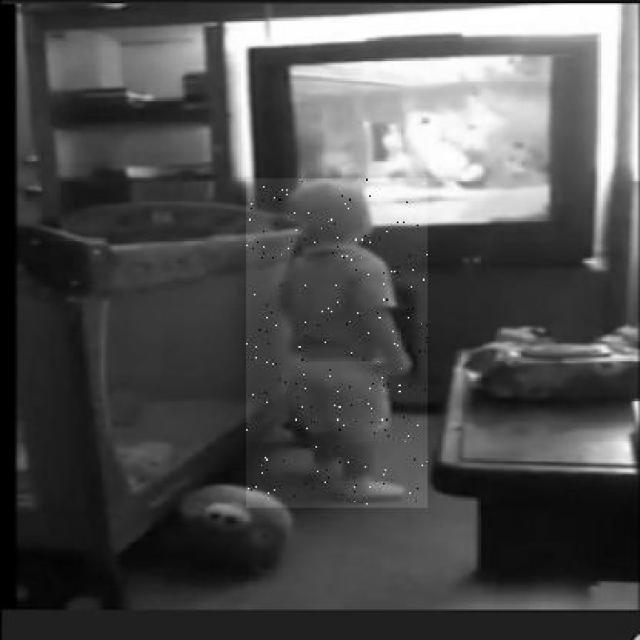child: (247, 179, 429, 508)
